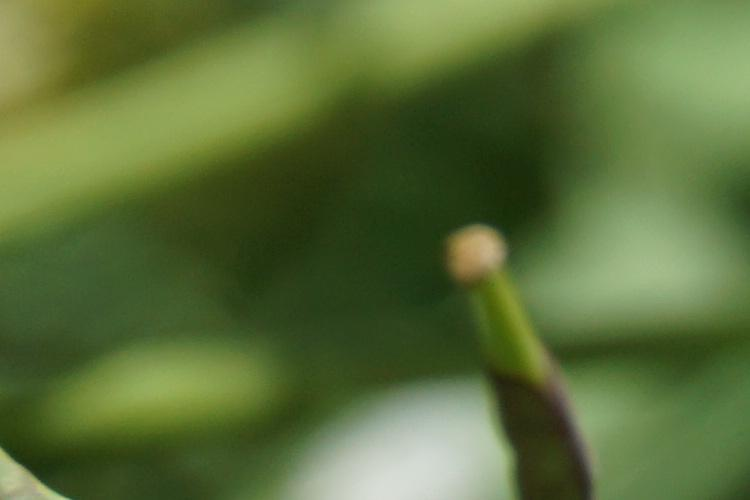pod: (410, 235, 629, 492)
